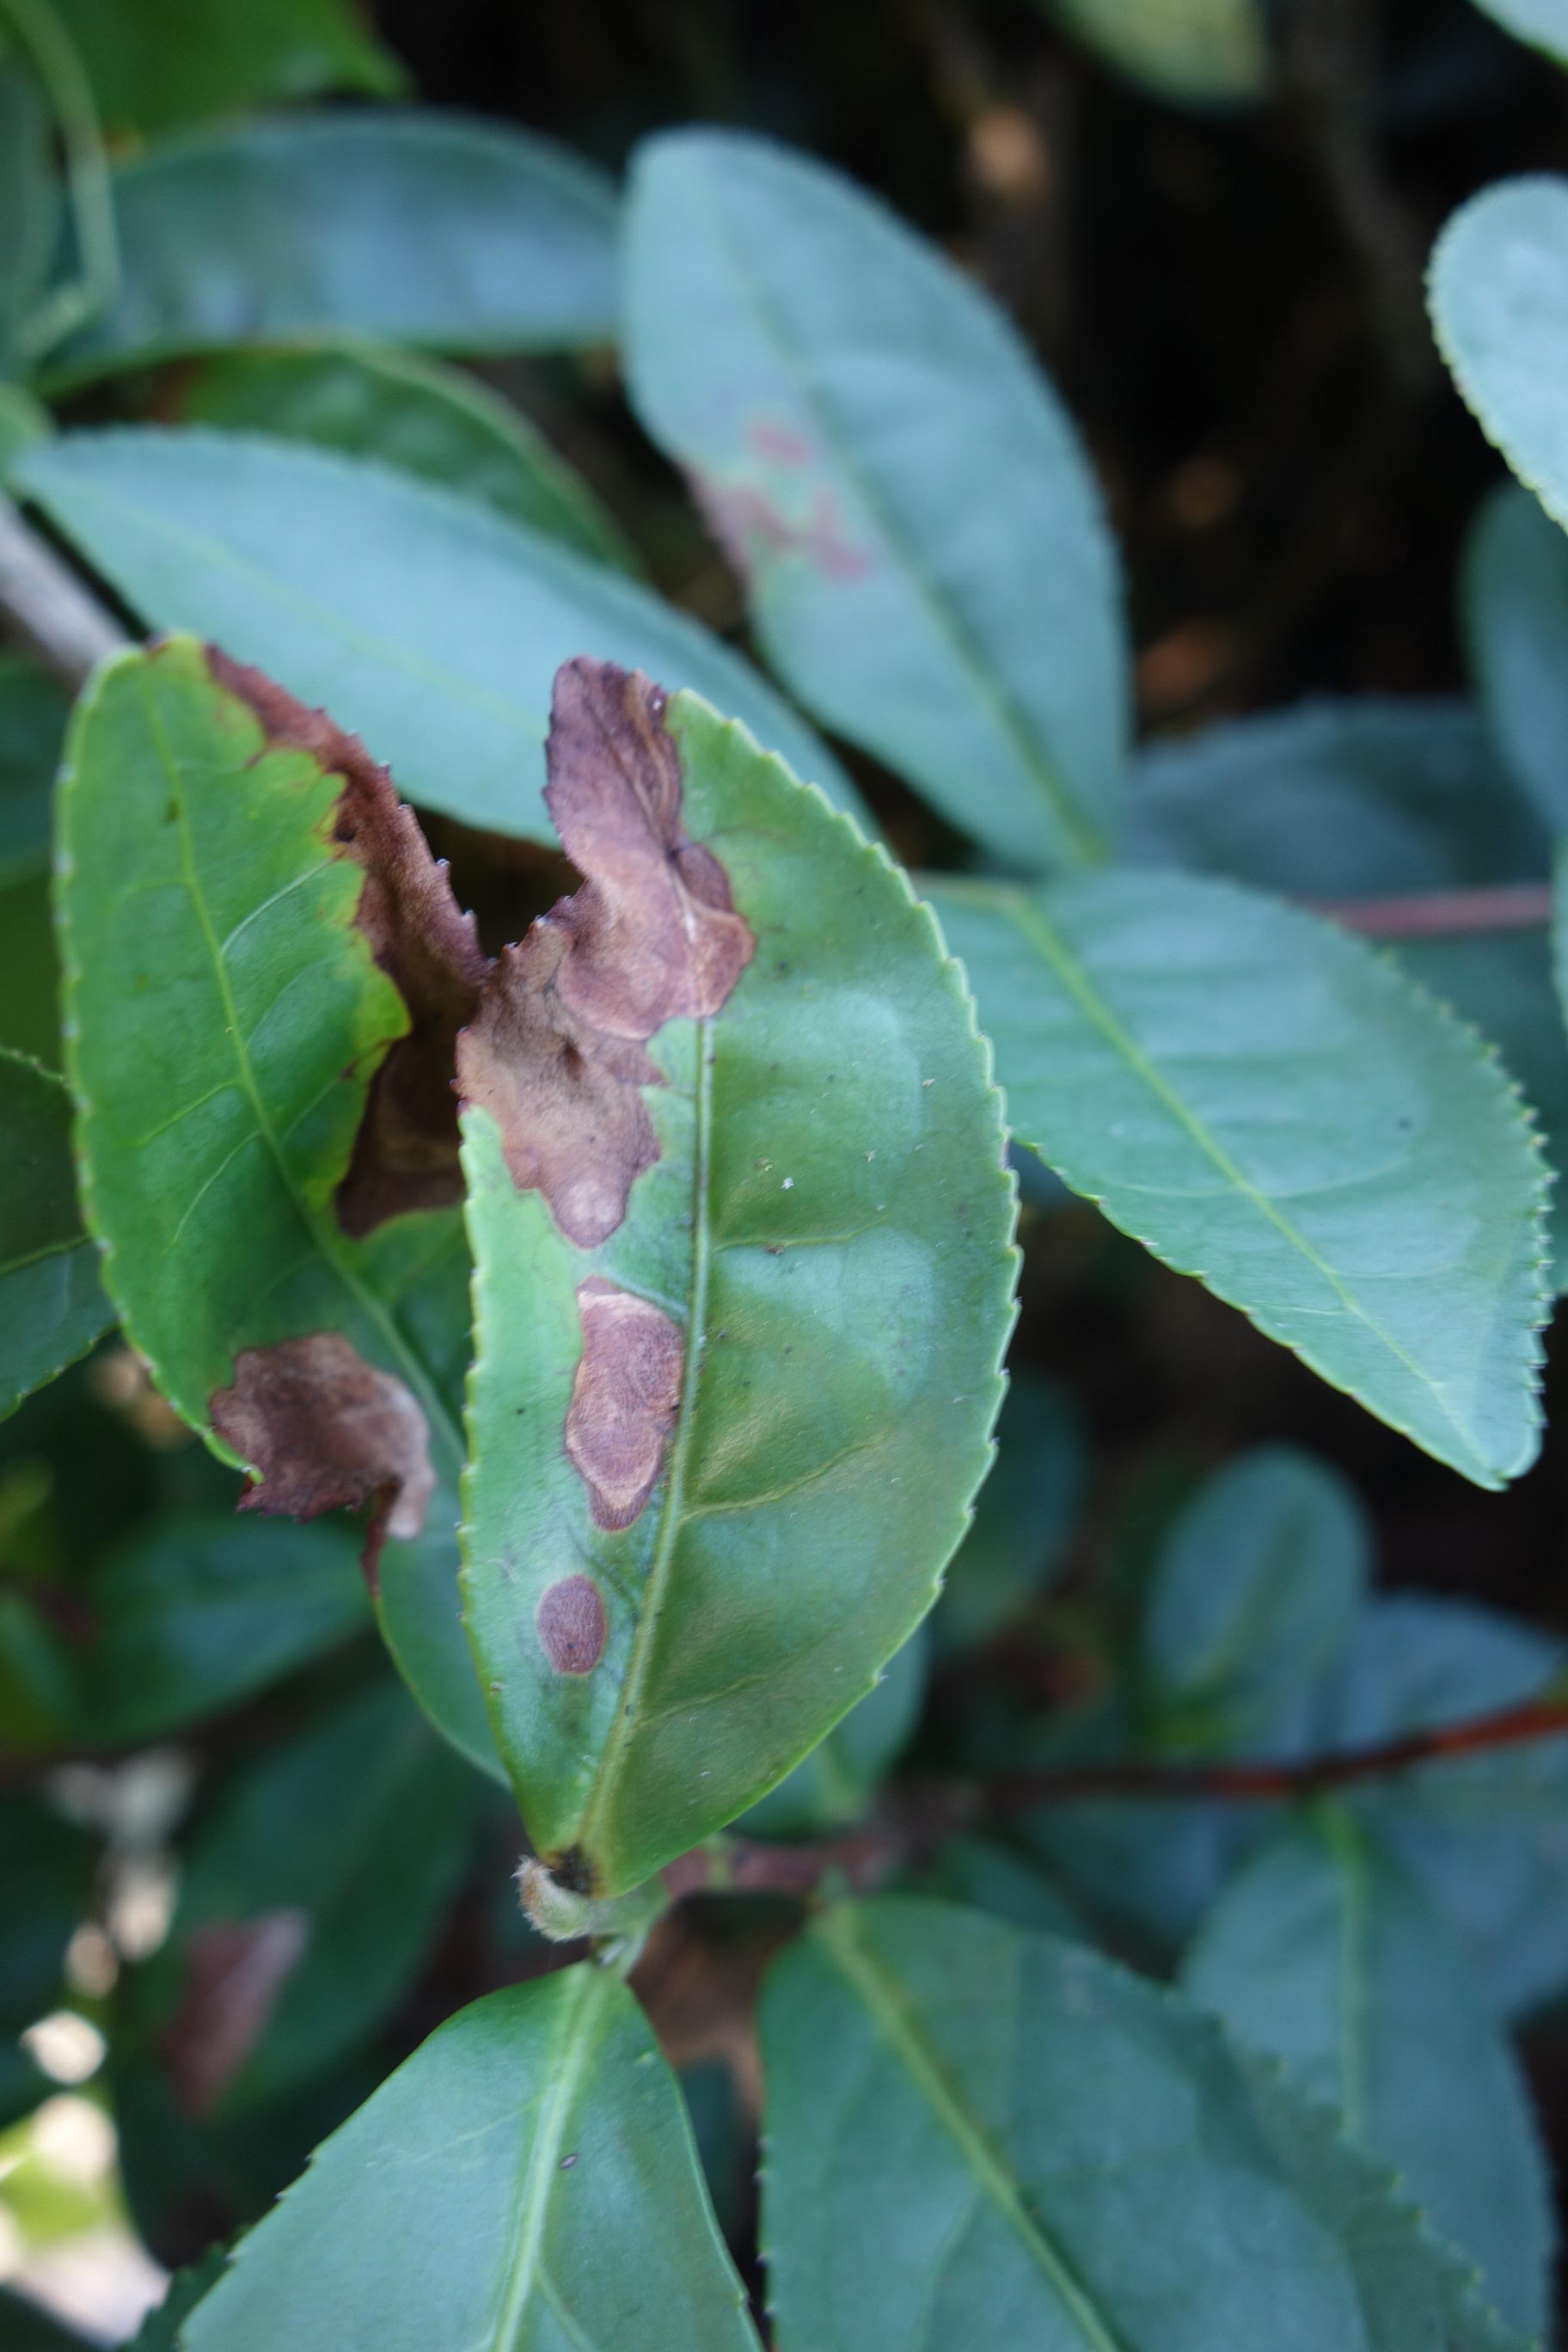tanju_high: (457, 653, 1034, 1913), (614, 117, 1137, 856), (51, 630, 479, 1529)
